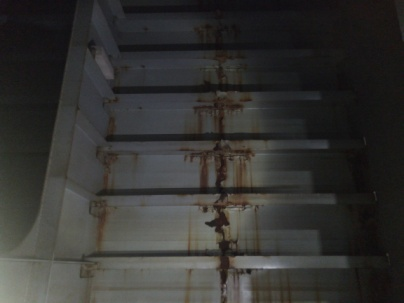corrosion: (201, 204, 238, 253), (245, 270, 298, 303), (92, 153, 116, 192), (247, 209, 269, 249), (77, 270, 102, 302), (213, 270, 235, 303), (179, 267, 199, 302), (182, 207, 196, 257), (88, 218, 108, 252), (212, 155, 233, 187), (99, 97, 116, 129), (235, 157, 255, 184), (197, 157, 213, 186), (191, 106, 208, 132), (214, 106, 232, 130), (113, 58, 132, 77), (214, 60, 227, 80)
